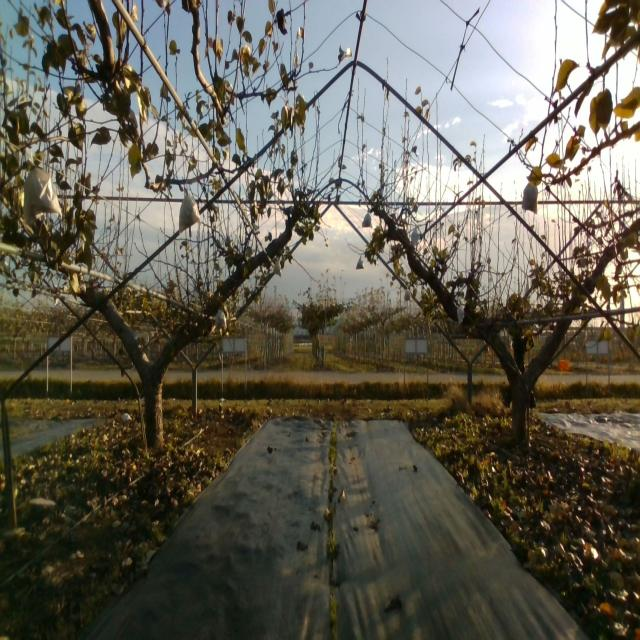pearbags: (22, 161, 62, 223), (179, 188, 201, 232), (522, 178, 539, 214), (215, 308, 228, 329), (361, 208, 373, 228), (411, 227, 421, 247)
